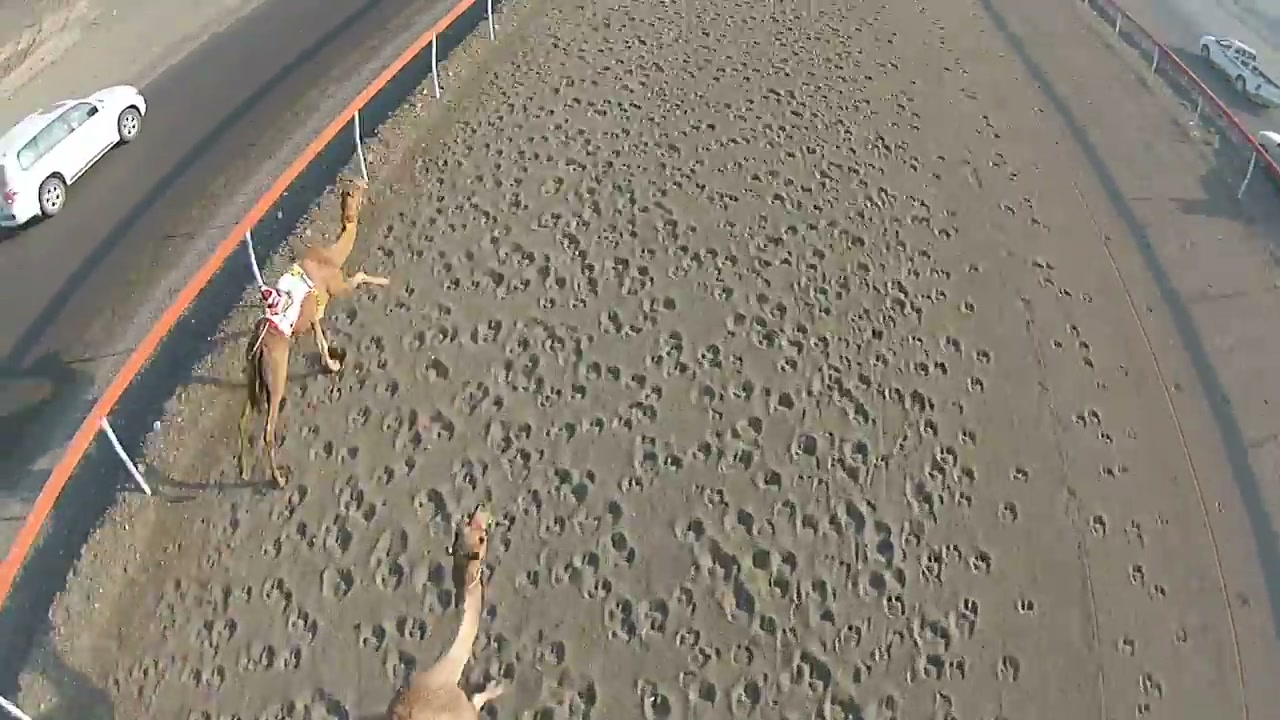animal_footprint: (22, 0, 1230, 719), (996, 654, 1021, 681)
